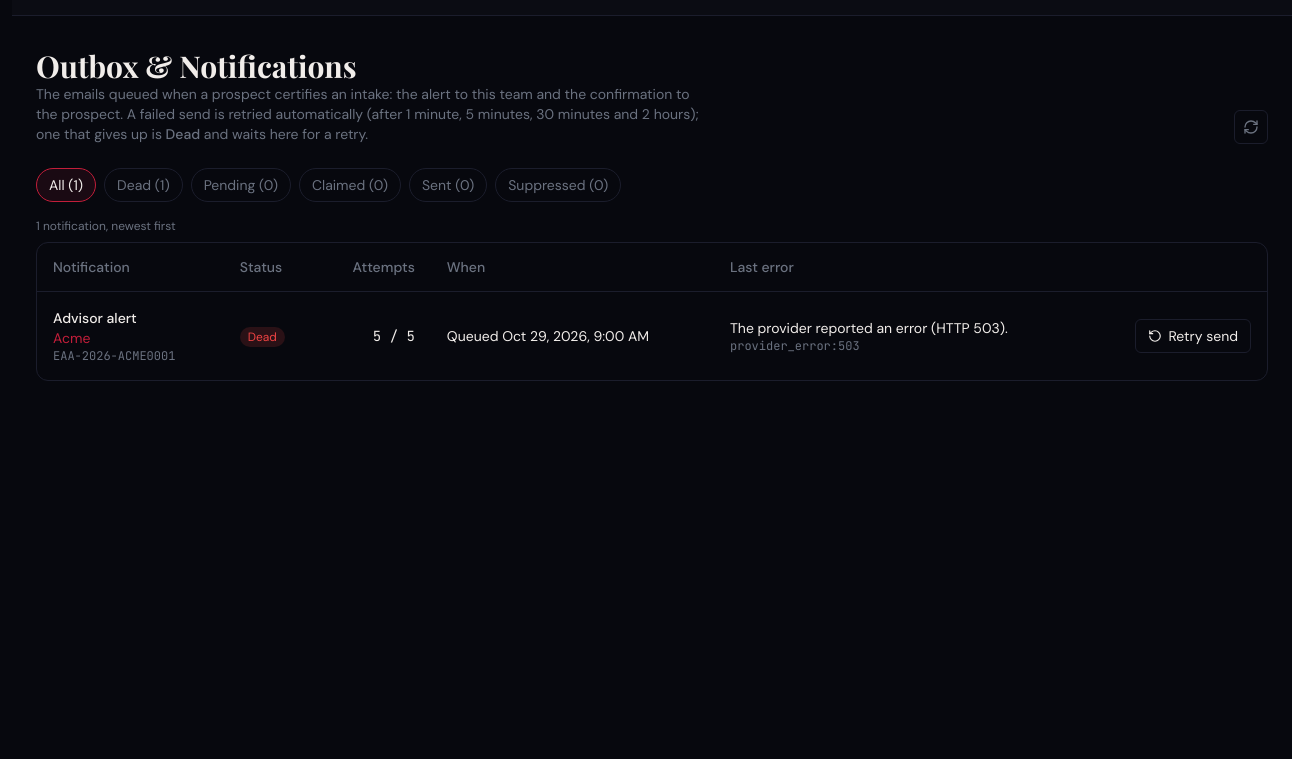
Test: AdvisorOutboxPage › filters by suppressed, and keeps the filter in the URL
This screenshot has width=1292, height=759.
Expected: the link "Acme" is shown, [53, 328, 90, 346]
Click the button "Suppressed (0)": {"x": 558, "y": 185} [495, 168, 621, 202]
(page scrolled)
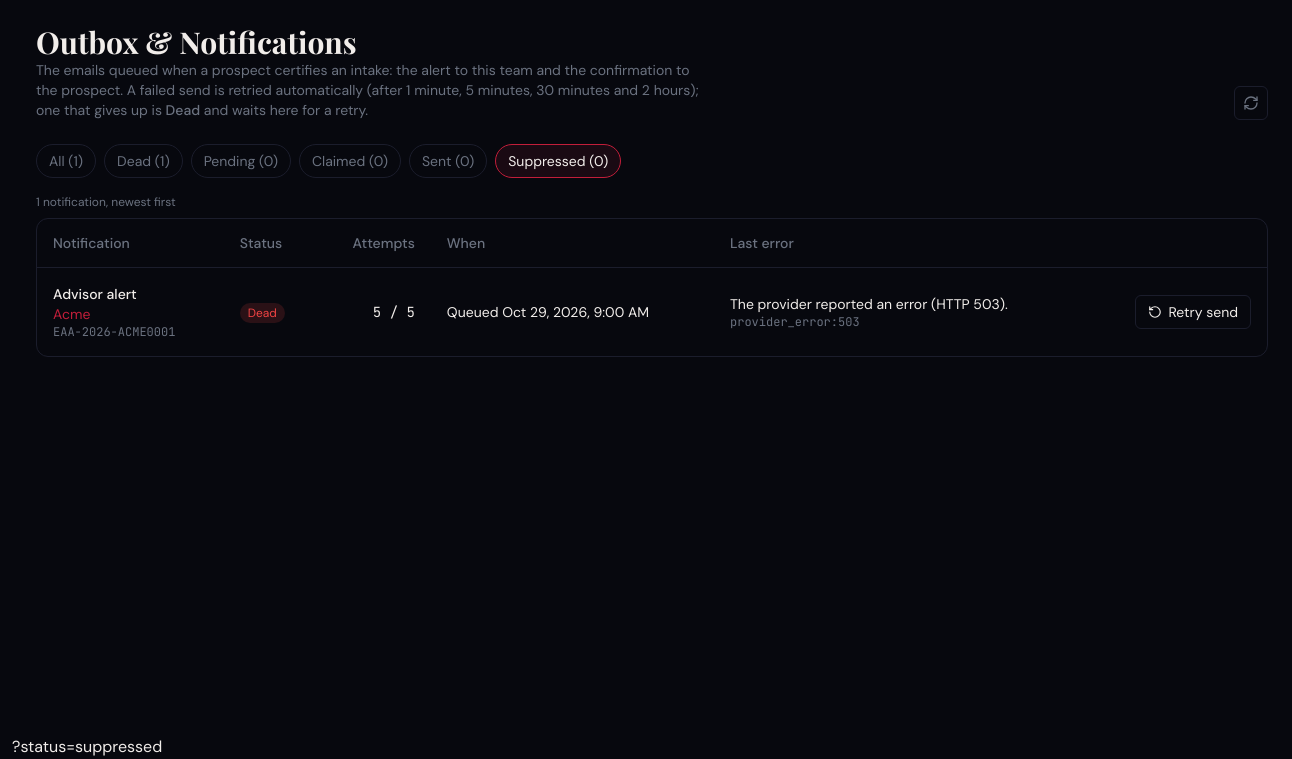
Expected: the text with test id "where" reads "?status=suppressed", [12, 736, 162, 757]
